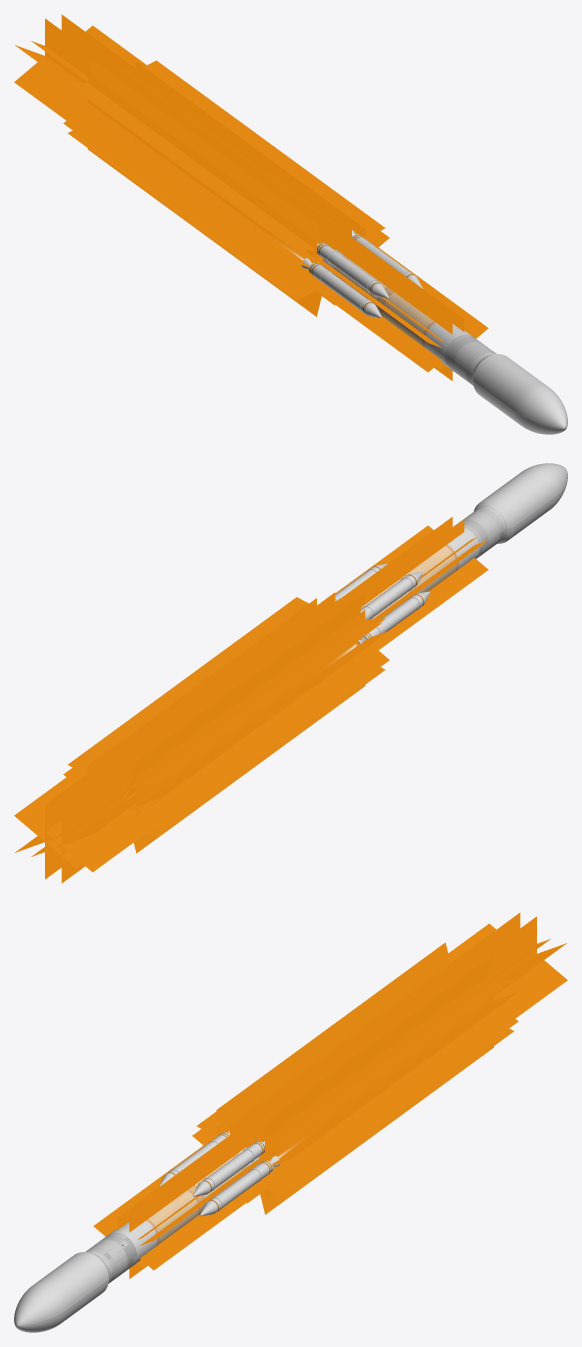
The model's file is launchvehicle.glb.
3 renders of one model, top to bottom at view 1: azimuth 30°, elevation 25°; view 2: azimuth 150°, elevation 25°; view 3: azimuth 330°, elevation 25°, orthographic.
Visible parts, largest first — view 1: SRB_Flame5, SRB_Flame4, Flame_Booster1, Flame_Booster2, Centaur_Flame1, SRB_Flame3, Fairing2, Centaur_Flame2, SRB_Flame6, SRB_Flame2, Booster, CentaurBody (+5 smaller); view 2: SRB_Flame5, Flame_Booster1, SRB_Flame4, Flame_Booster2, SRB_Flame3, Centaur_Flame1, Fairing2, Centaur_Flame2, SRB_Flame6, SRB_Flame2, CentaurBody, Booster (+4 smaller); view 3: SRB_Flame2, SRB_Flame3, Flame_Booster2, SRB_Flame4, Flame_Booster1, Centaur_Flame2, Fairing2, Centaur_Flame1, SRB_Flame1, Booster, CentaurBody, SRB2 (+4 smaller).
Boxes of the visible parts, <box> form: SRB_Flame5: <box>63,73,322,299</box>; SRB_Flame4: <box>68,56,322,258</box>; Flame_Booster1: <box>14,18,335,305</box>; Flame_Booster2: <box>31,14,382,244</box>; Centaur_Flame1: <box>301,236,476,380</box>; SRB_Flame3: <box>111,60,385,238</box>; Fairing2: <box>472,354,567,428</box>; Centaur_Flame2: <box>235,152,488,369</box>; SRB_Flame6: <box>68,104,321,316</box>; SRB_Flame2: <box>136,61,389,247</box>; Booster: <box>322,249,435,347</box>; CentaurBody: <box>445,334,496,385</box>; SRB_Flame5: <box>123,610,389,827</box>; Flame_Booster1: <box>31,596,382,883</box>; SRB_Flame4: <box>121,593,385,800</box>; Flame_Booster2: <box>14,592,335,879</box>; SRB_Flame3: <box>68,597,340,792</box>; Centaur_Flame1: <box>352,519,488,650</box>; Fairing2: <box>474,463,567,528</box>; Centaur_Flame2: <box>223,517,476,689</box>; SRB_Flame6: <box>123,641,385,853</box>; SRB_Flame2: <box>63,598,316,776</box>; CentaurBody: <box>453,506,506,558</box>; Booster: <box>361,544,458,619</box>; SRB_Flame2: <box>259,971,518,1197</box>; SRB_Flame3: <box>259,954,513,1156</box>; Flame_Booster2: <box>246,916,567,1203</box>; SRB_Flame4: <box>196,942,470,1136</box>; Flame_Booster1: <box>199,912,550,1142</box>; Centaur_Flame2: <box>105,1134,280,1278</box>; Fairing2: <box>14,1252,109,1326</box>; Centaur_Flame1: <box>93,1050,346,1267</box>; SRB_Flame1: <box>260,1002,513,1214</box>; Booster: <box>146,1147,259,1245</box>; CentaurBody: <box>85,1232,136,1283</box>; SRB2: <box>200,1156,280,1216</box>.
Bounding box in the file's own units: 15.33 × 14 × 139.
7 materials, 7 textured.
